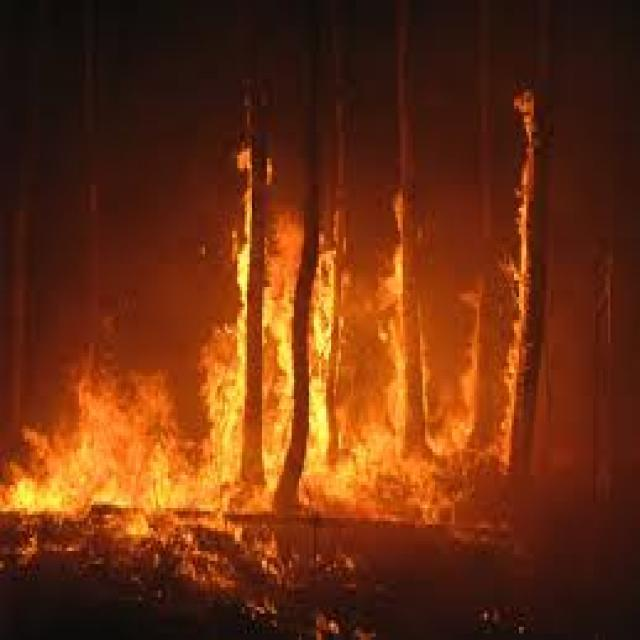Fire: (0, 76, 635, 634)
